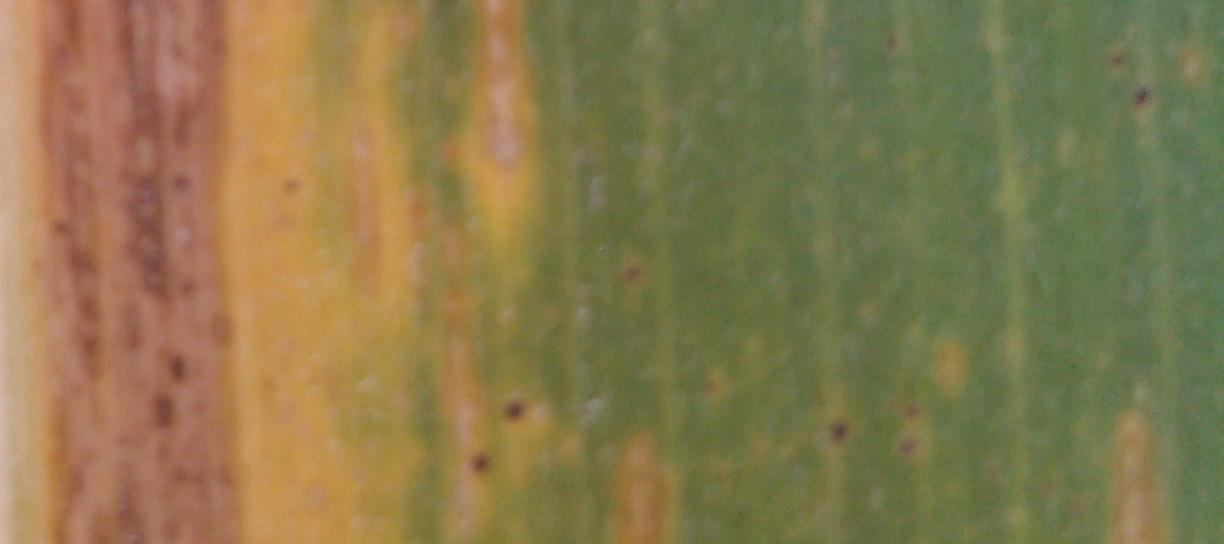tarspot: (495, 396, 534, 435), (149, 390, 182, 436), (159, 348, 195, 386), (822, 411, 855, 450), (872, 25, 907, 60), (460, 448, 497, 481), (889, 433, 926, 465), (280, 169, 309, 206), (618, 256, 653, 285), (164, 167, 195, 198), (1130, 81, 1159, 111), (1105, 44, 1130, 77), (899, 396, 926, 421)
